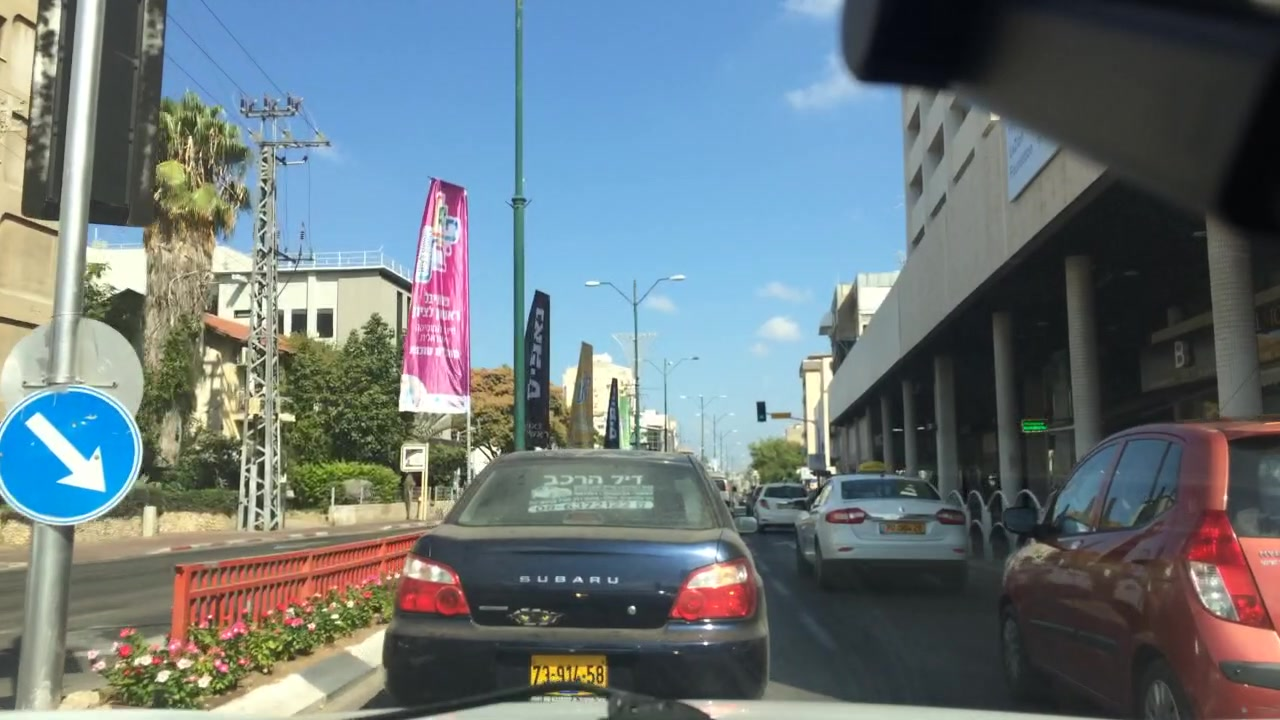licence: (525, 651, 608, 695)
